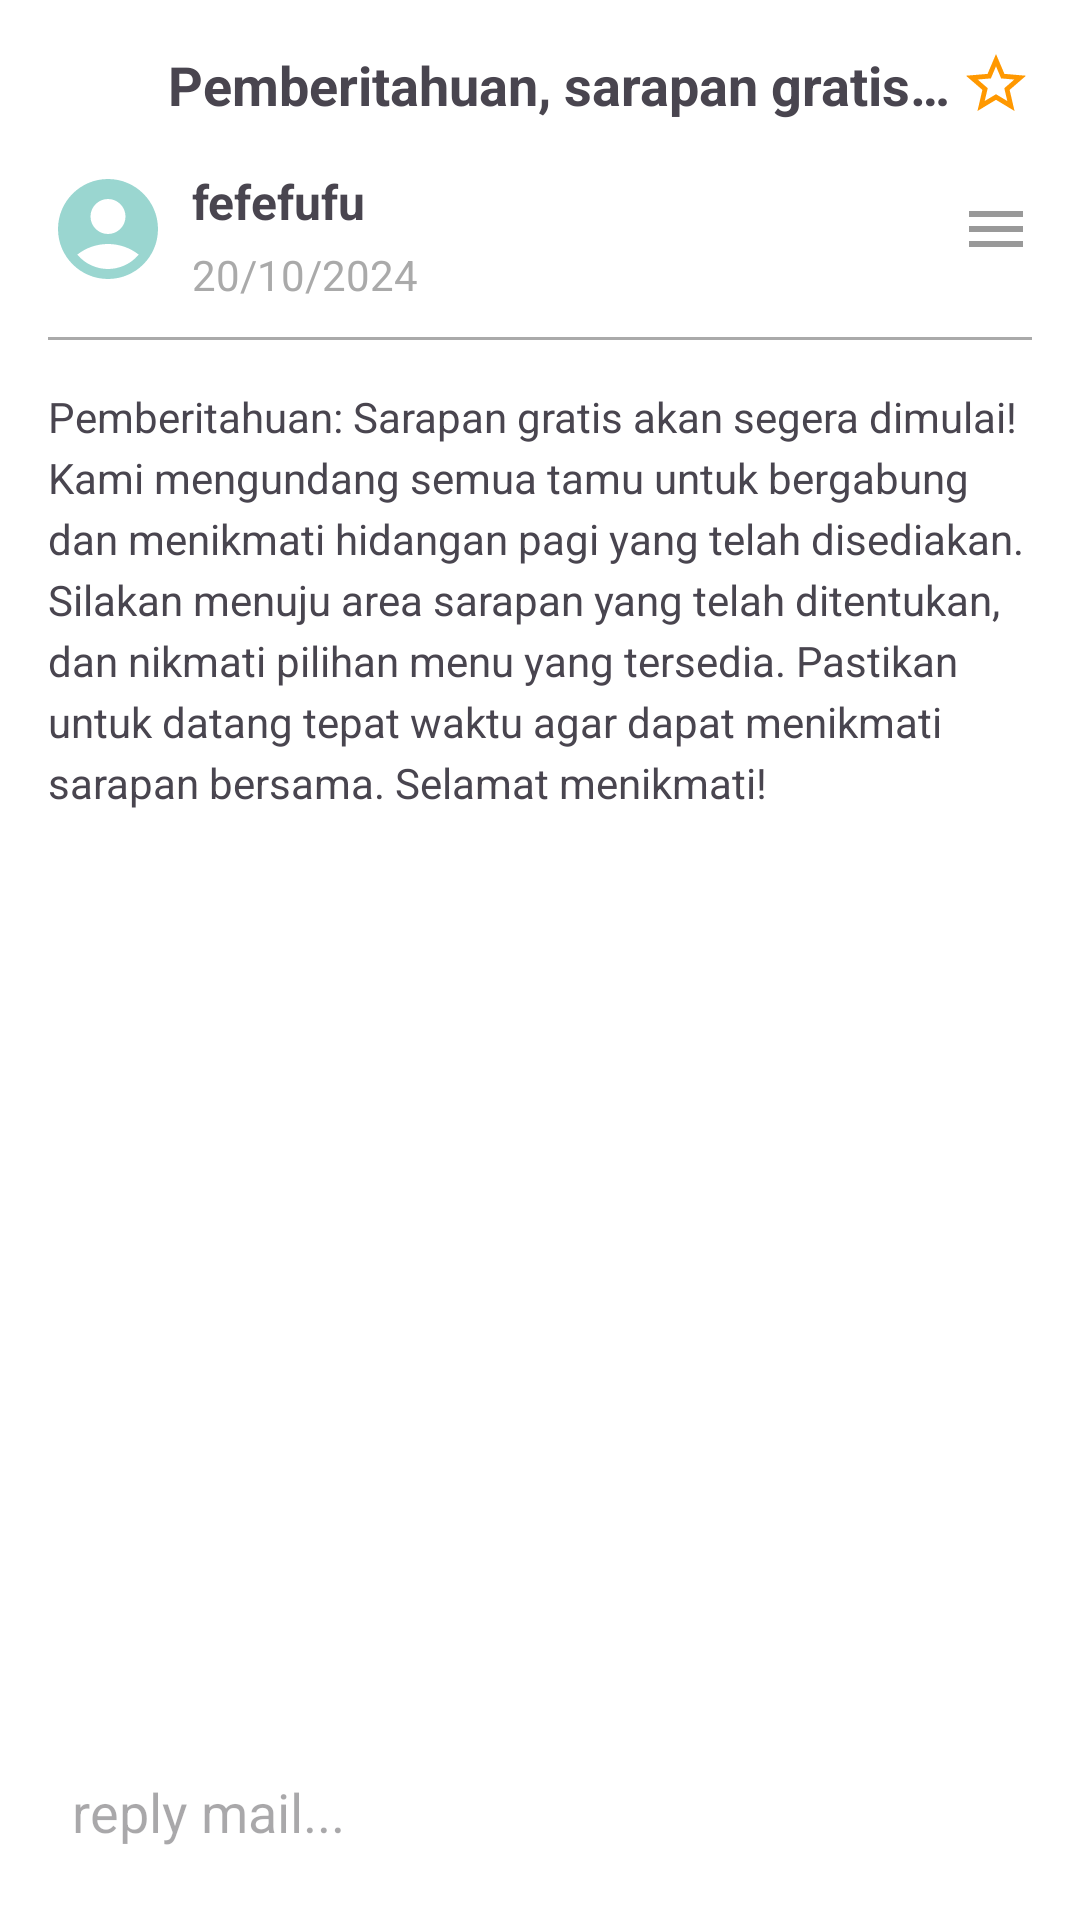

Named icons in this screenshot (1080×1920) and their centers, (x=x, y=y):
account circle: (x=108, y=229)
star border: (x=996, y=82)
